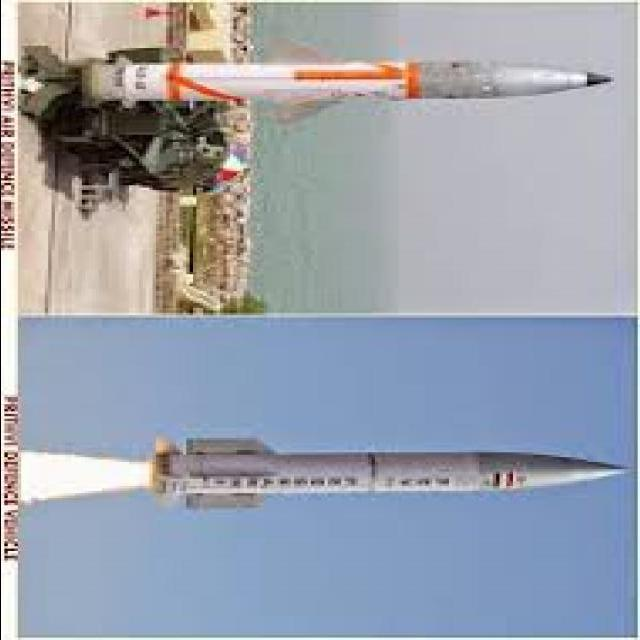missile: (145, 421, 633, 520), (85, 52, 619, 108)
